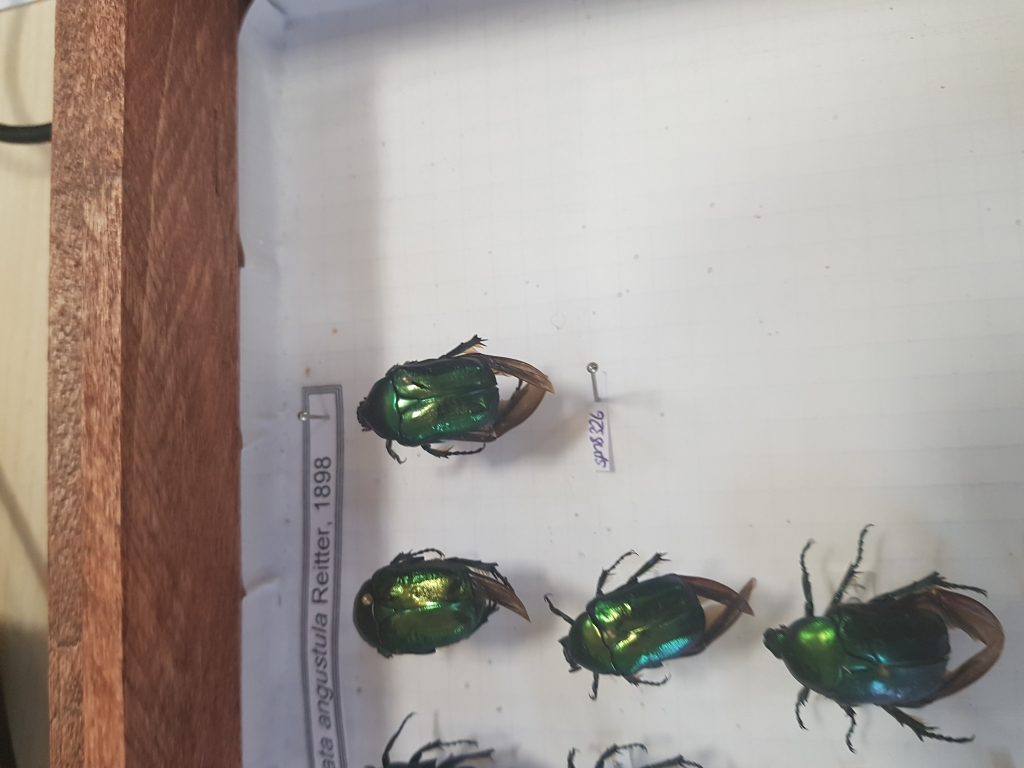Protaetia_angustata_angustata: (348, 325, 562, 471), (345, 539, 527, 678)
